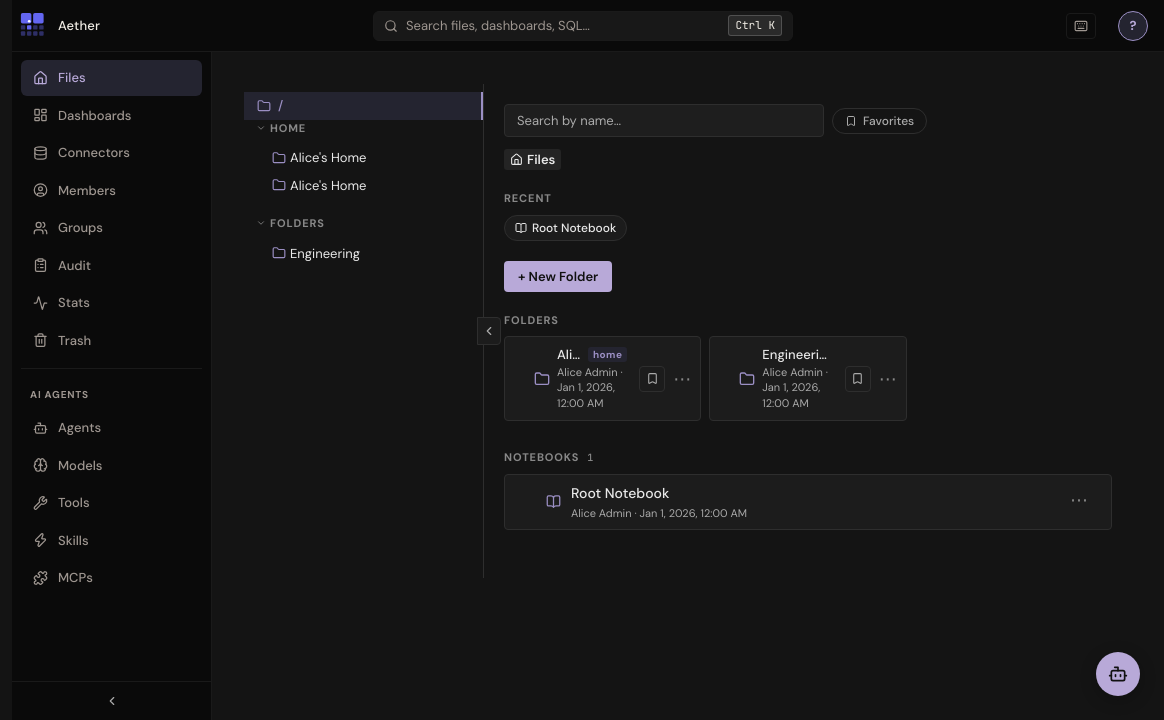
Test: Folder navigation (T2.3) › clicking a folder navigates into it and shows its contents
Click the last match (main content area, not sidebar)
What coordinates should you click on to do the following:
click the 2nd text "Engineering"
I would click on:
 (797, 354)
Its box is [762,346,833,363].
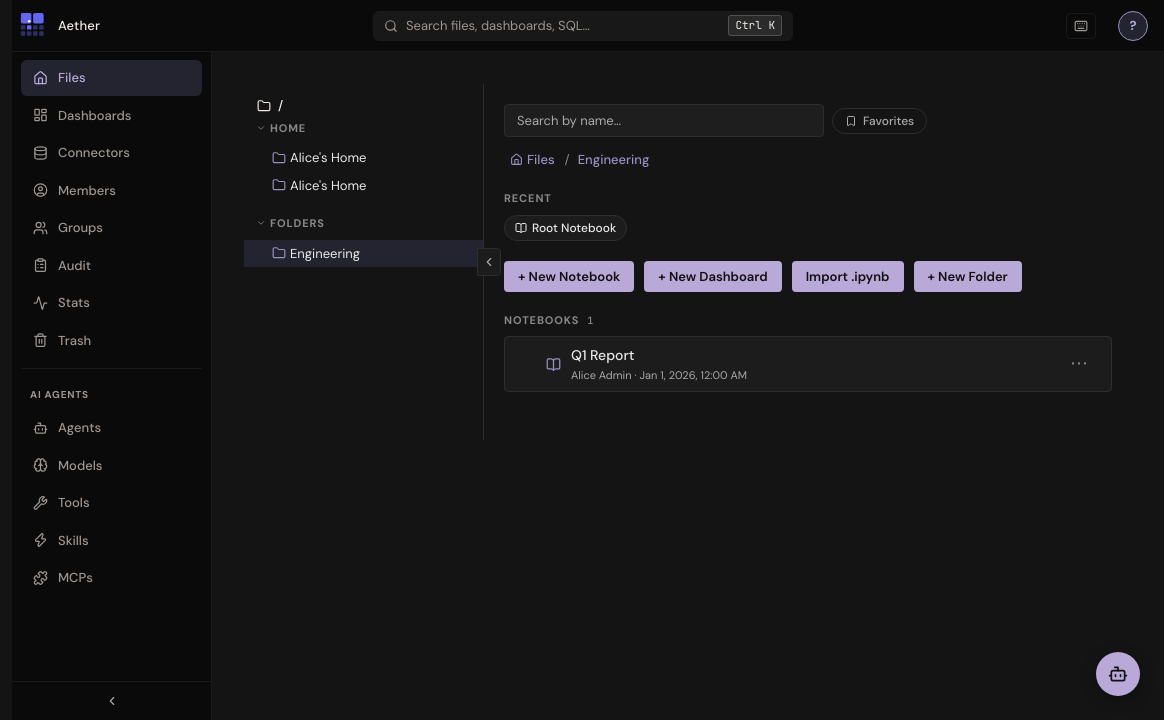
expect the text "Q1 Report" is shown: met, box [571,346,634,364]
